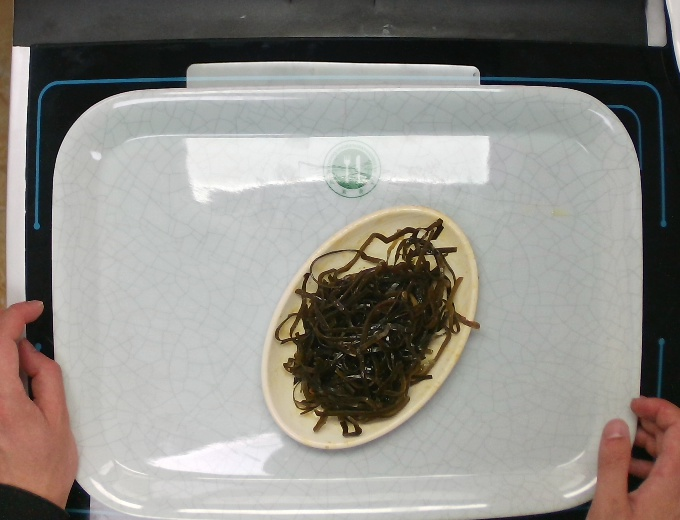JYsf-Tuo_Yuan_Wan: (257, 202, 482, 454)
